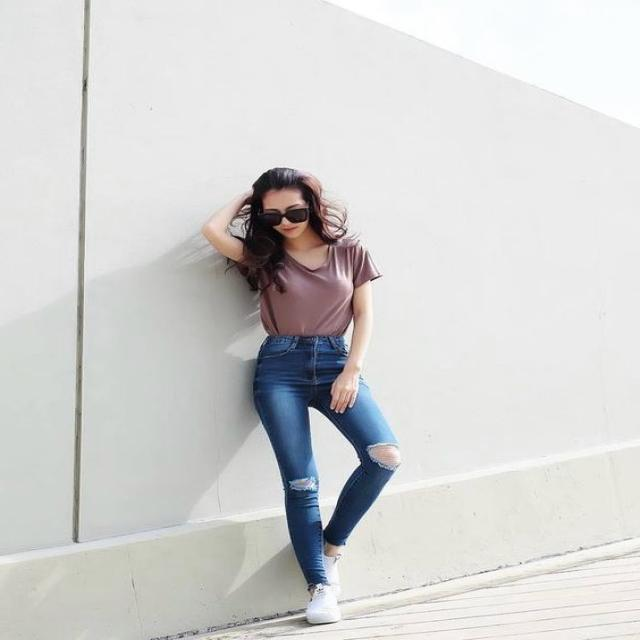adult: (174, 163, 402, 627)
